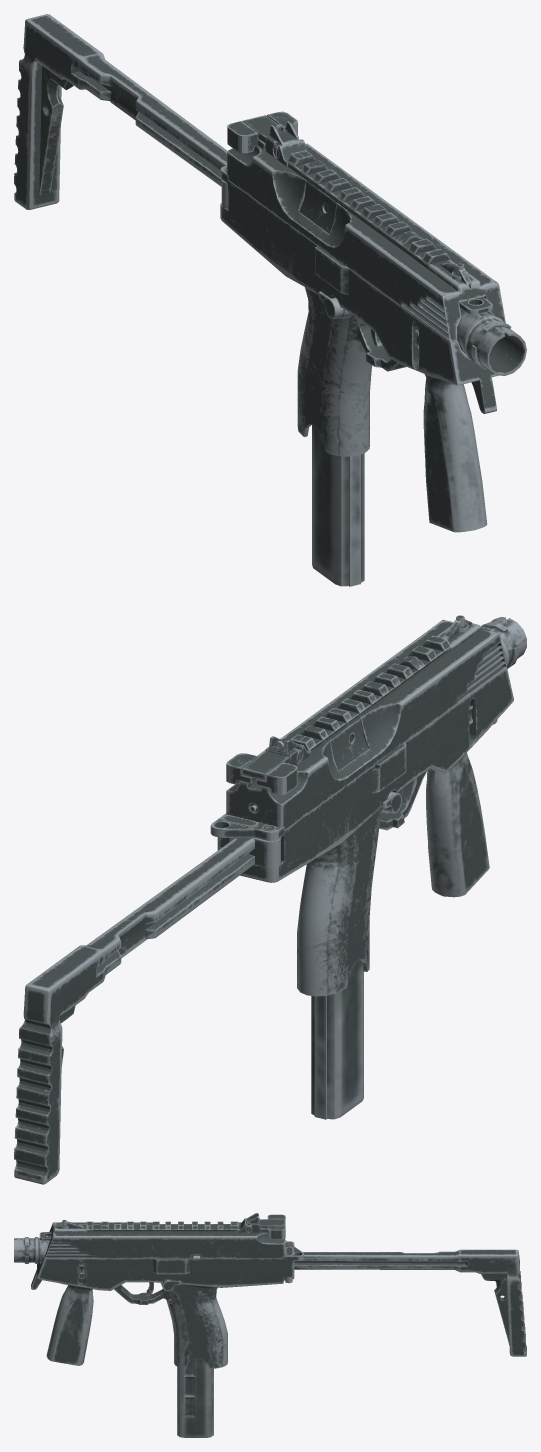
The picture shows the model from 3 angles, top to bottom: view 1: azimuth 30°, elevation 25°; view 2: azimuth 150°, elevation 25°; view 3: azimuth 270°, elevation 25°; orthographic projection. The views are drawn at different scales.
Visible parts, largest first — view 1: cuerpobajo_Low, cuerpoarriba_Low, culata_Low, agarre_Low, magazine_Low, canon_Low, grueso_low; view 2: cuerpobajo_Low, cuerpoarriba_Low, culata_Low, agarre_Low, magazine_Low, grueso_low, canon_Low, fino_low, giroculata_Low; view 3: cuerpobajo_Low, cuerpoarriba_Low, culata_Low, agarre_Low, magazine_Low, canon_Low, grueso_low.
Part boxes in pixels (box(x1,y1,x2,y2)): cuerpobajo_Low: box(220, 166, 498, 456); cuerpoarriba_Low: box(227, 143, 505, 342); culata_Low: box(14, 14, 227, 209); agarre_Low: box(423, 374, 487, 532); magazine_Low: box(312, 425, 364, 586); canon_Low: box(457, 304, 526, 375); grueso_low: box(227, 111, 297, 153); cuerpobajo_Low: box(210, 668, 513, 996); cuerpoarriba_Low: box(226, 619, 507, 829); culata_Low: box(14, 837, 254, 1184); agarre_Low: box(426, 753, 489, 897); magazine_Low: box(311, 960, 363, 1119); grueso_low: box(226, 753, 297, 794); canon_Low: box(481, 617, 526, 668); fino_low: box(242, 751, 289, 780); giroculata_Low: box(249, 837, 280, 867); cuerpobajo_Low: box(31, 1241, 303, 1368); cuerpoarriba_Low: box(44, 1221, 285, 1258); culata_Low: box(294, 1249, 526, 1356); agarre_Low: box(46, 1285, 93, 1365); magazine_Low: box(177, 1358, 213, 1437); canon_Low: box(14, 1237, 49, 1263); grueso_low: box(259, 1214, 285, 1239).
Size of the model in its own units: 3.7 by 21.8 by 46.35.
1 material, 1 textured.
